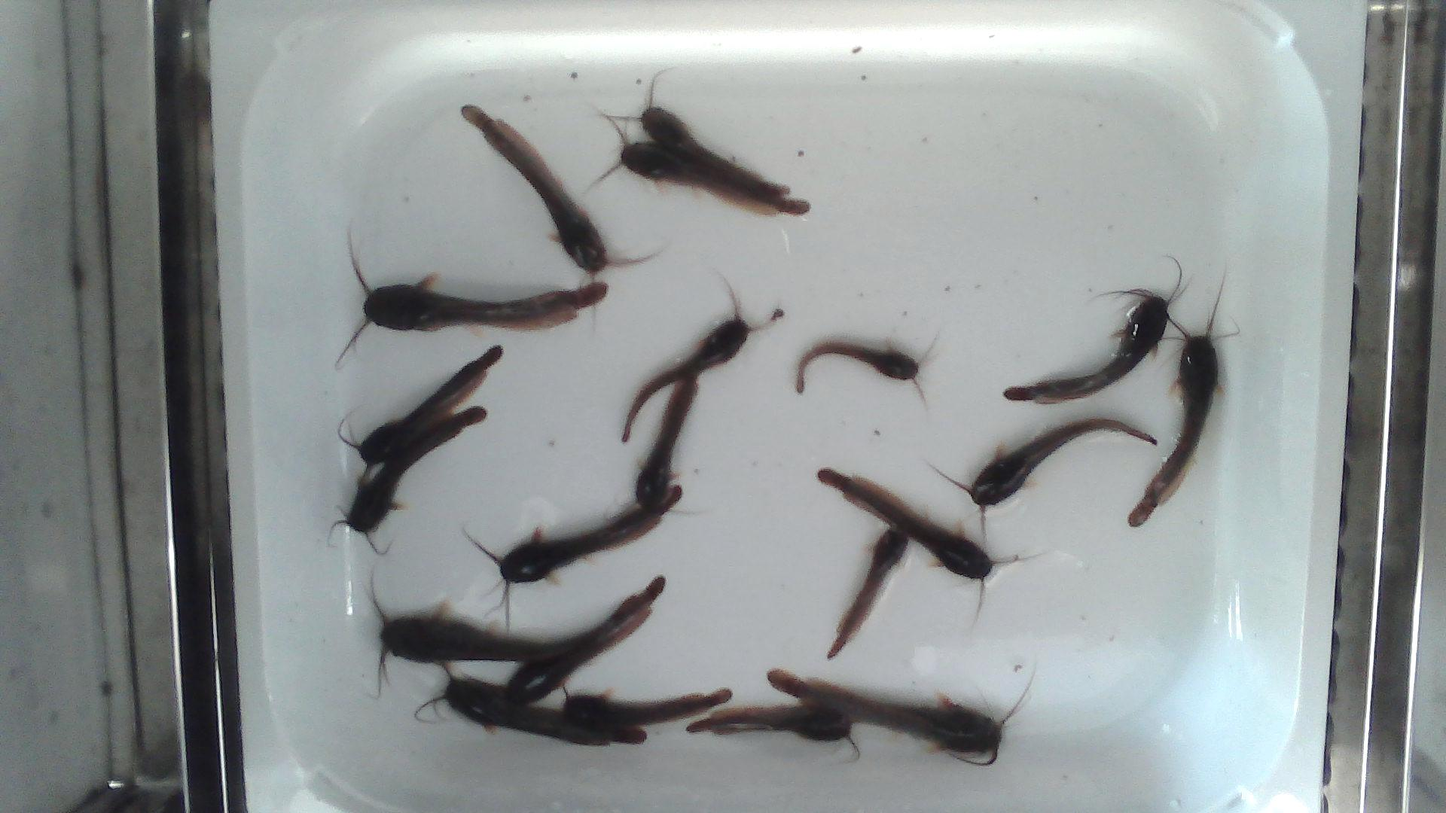lele: (461, 106, 650, 281), (340, 251, 608, 361), (369, 571, 594, 701), (622, 272, 781, 444), (589, 109, 811, 218), (333, 346, 505, 483), (335, 405, 488, 553), (769, 671, 1002, 765), (616, 71, 790, 194), (932, 417, 1155, 511), (409, 662, 649, 748), (508, 573, 665, 703), (477, 485, 680, 582), (818, 469, 995, 579), (1004, 291, 1169, 403), (1129, 333, 1218, 526), (827, 528, 908, 657), (638, 376, 699, 508), (560, 686, 732, 728), (795, 340, 919, 393), (686, 704, 851, 741)
